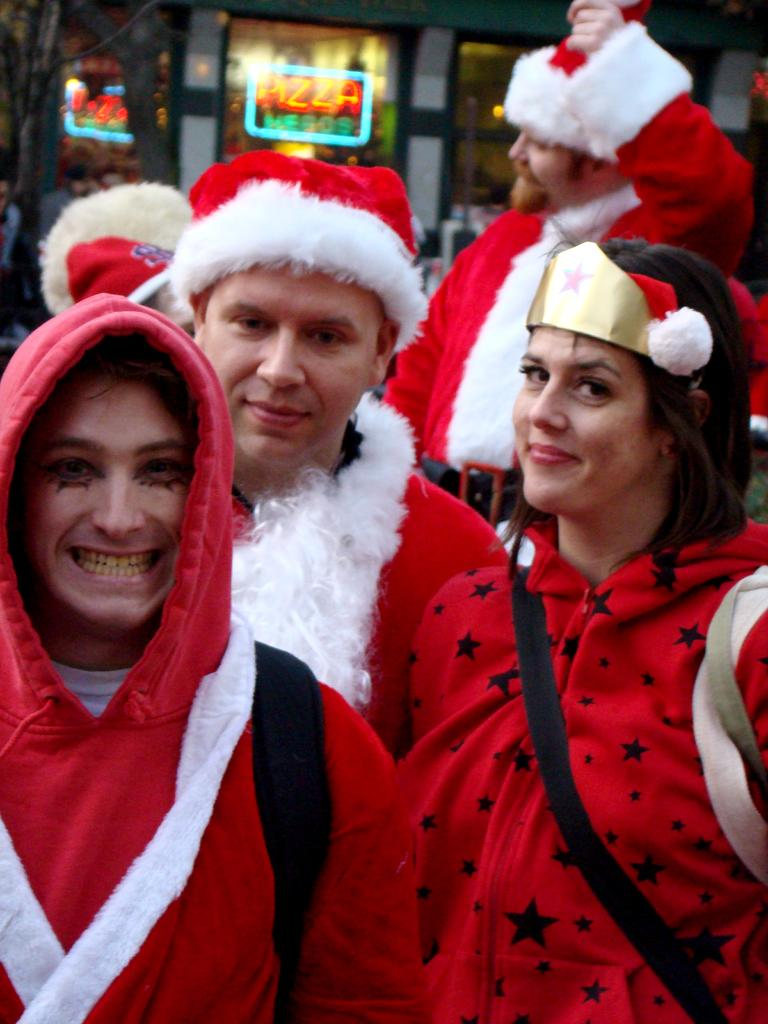Hat: (168, 150, 428, 355)
